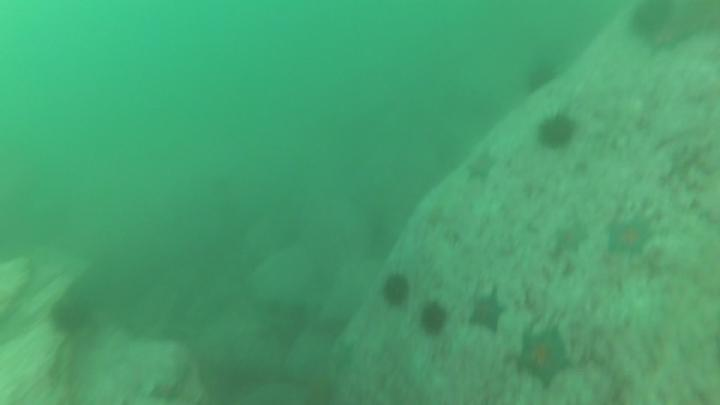echinus: (48, 296, 95, 339), (629, 1, 680, 40), (536, 113, 580, 152), (416, 300, 451, 339), (382, 270, 413, 310), (525, 65, 559, 97)
starfish: (515, 325, 574, 385), (603, 213, 658, 262), (467, 285, 509, 337), (548, 219, 591, 261), (327, 335, 361, 377), (464, 147, 500, 184)
